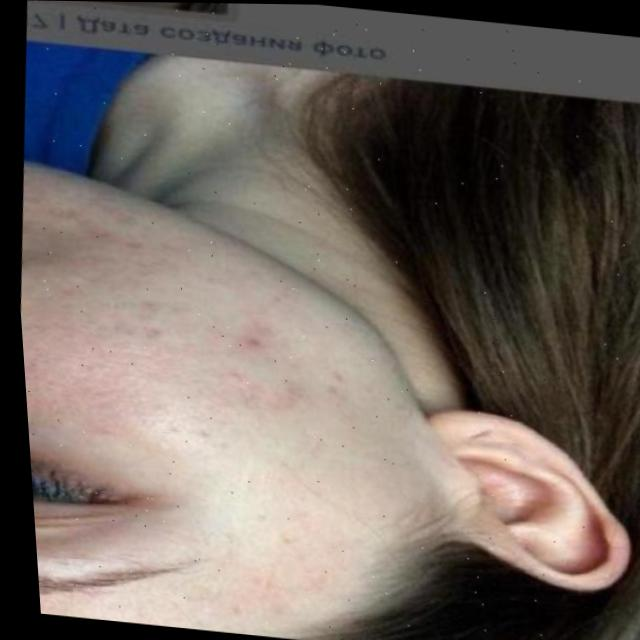Acne: (62, 230, 418, 521)
